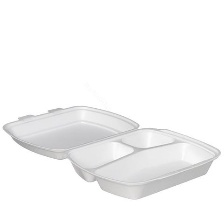foam_box: (0, 100, 224, 204)
